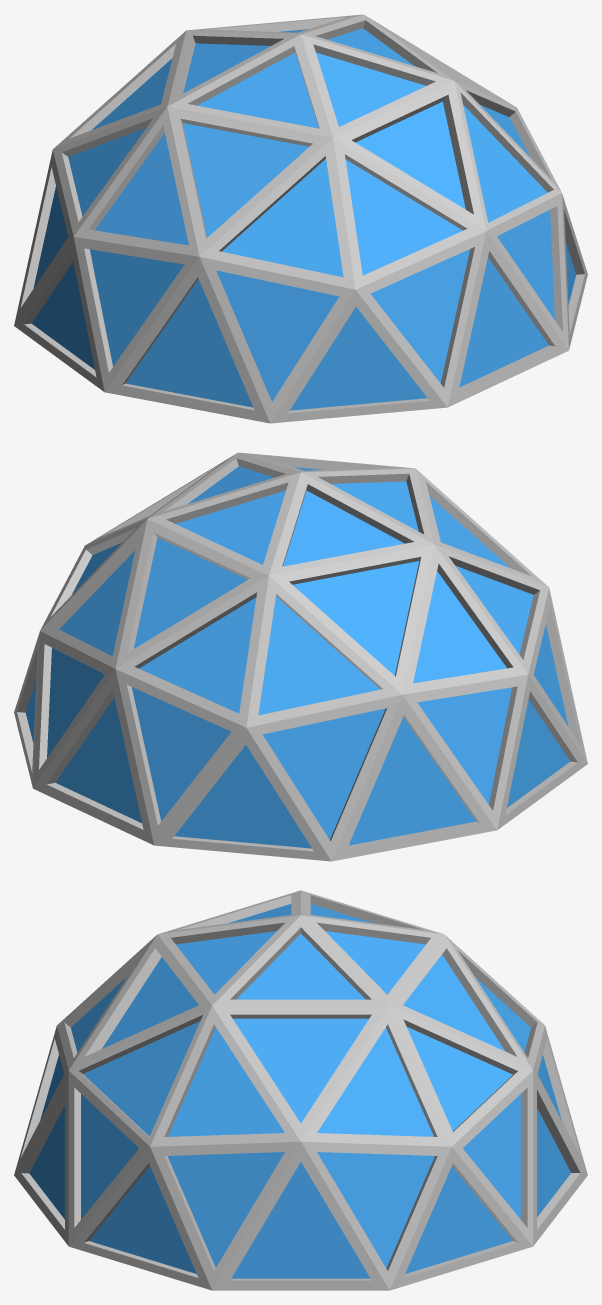
File: Kuppel.obj
3 views of the same model, one above another, from view 1: azimuth 30°, elevation 25°; view 2: azimuth 150°, elevation 25°; view 3: azimuth 270°, elevation 25° (orthographic). The views are drawn at different scales.
Parts seen in each view (by area): view 1: Glass_Icosphere.001, Building_Icosphere; view 2: Glass_Icosphere.001, Building_Icosphere; view 3: Glass_Icosphere.001, Building_Icosphere.
Boxes of the visible parts, x1=… form: Glass_Icosphere.001: x1=32, y1=28, x2=576, y2=410; Building_Icosphere: x1=14, y1=14, x2=587, y2=423; Glass_Icosphere.001: x1=25, y1=466, x2=569, y2=848; Building_Icosphere: x1=14, y1=452, x2=587, y2=861; Glass_Icosphere.001: x1=29, y1=904, x2=570, y2=1278; Building_Icosphere: x1=14, y1=890, x2=587, y2=1290.
Size of the model in its own units: 1.9 by 1 by 2.
